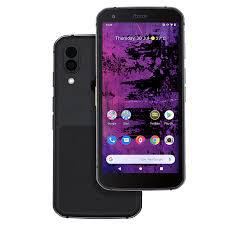Smartphone: (97, 12, 183, 184), (59, 32, 136, 220)
